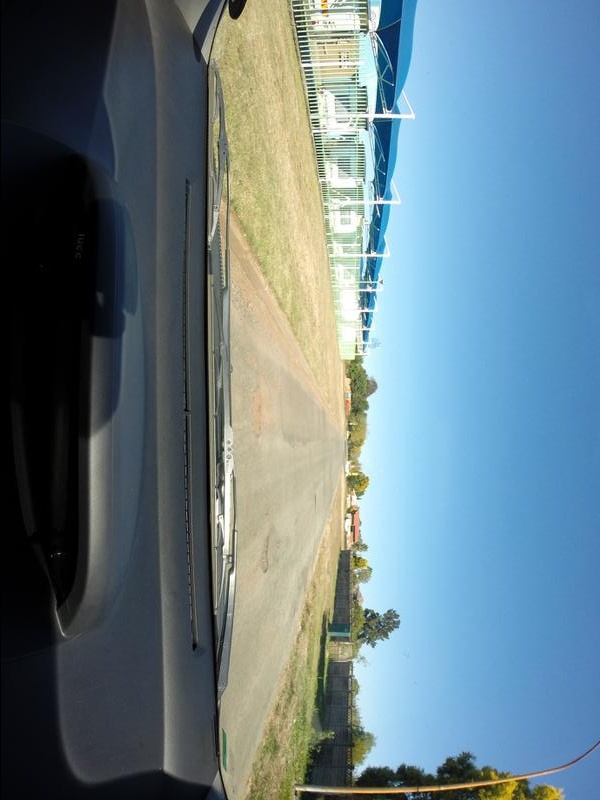pothole: (251, 393, 262, 438), (260, 538, 271, 574), (314, 494, 316, 517)
